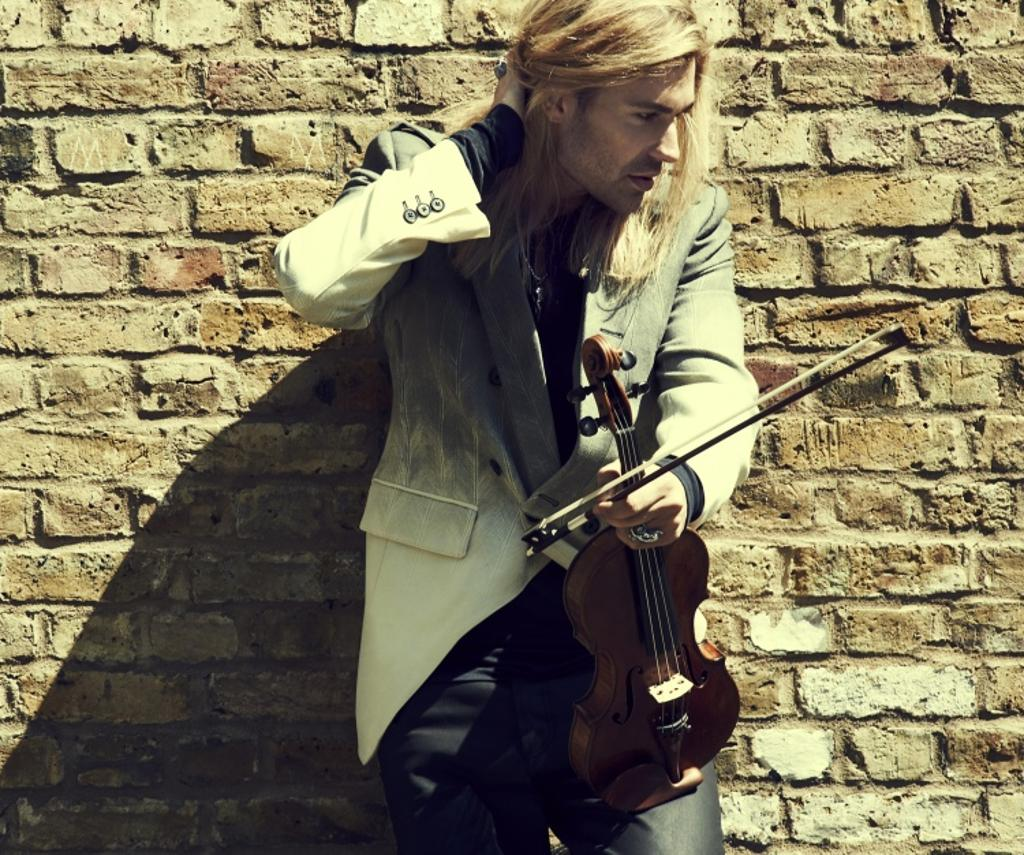face: (580, 54, 694, 210)
